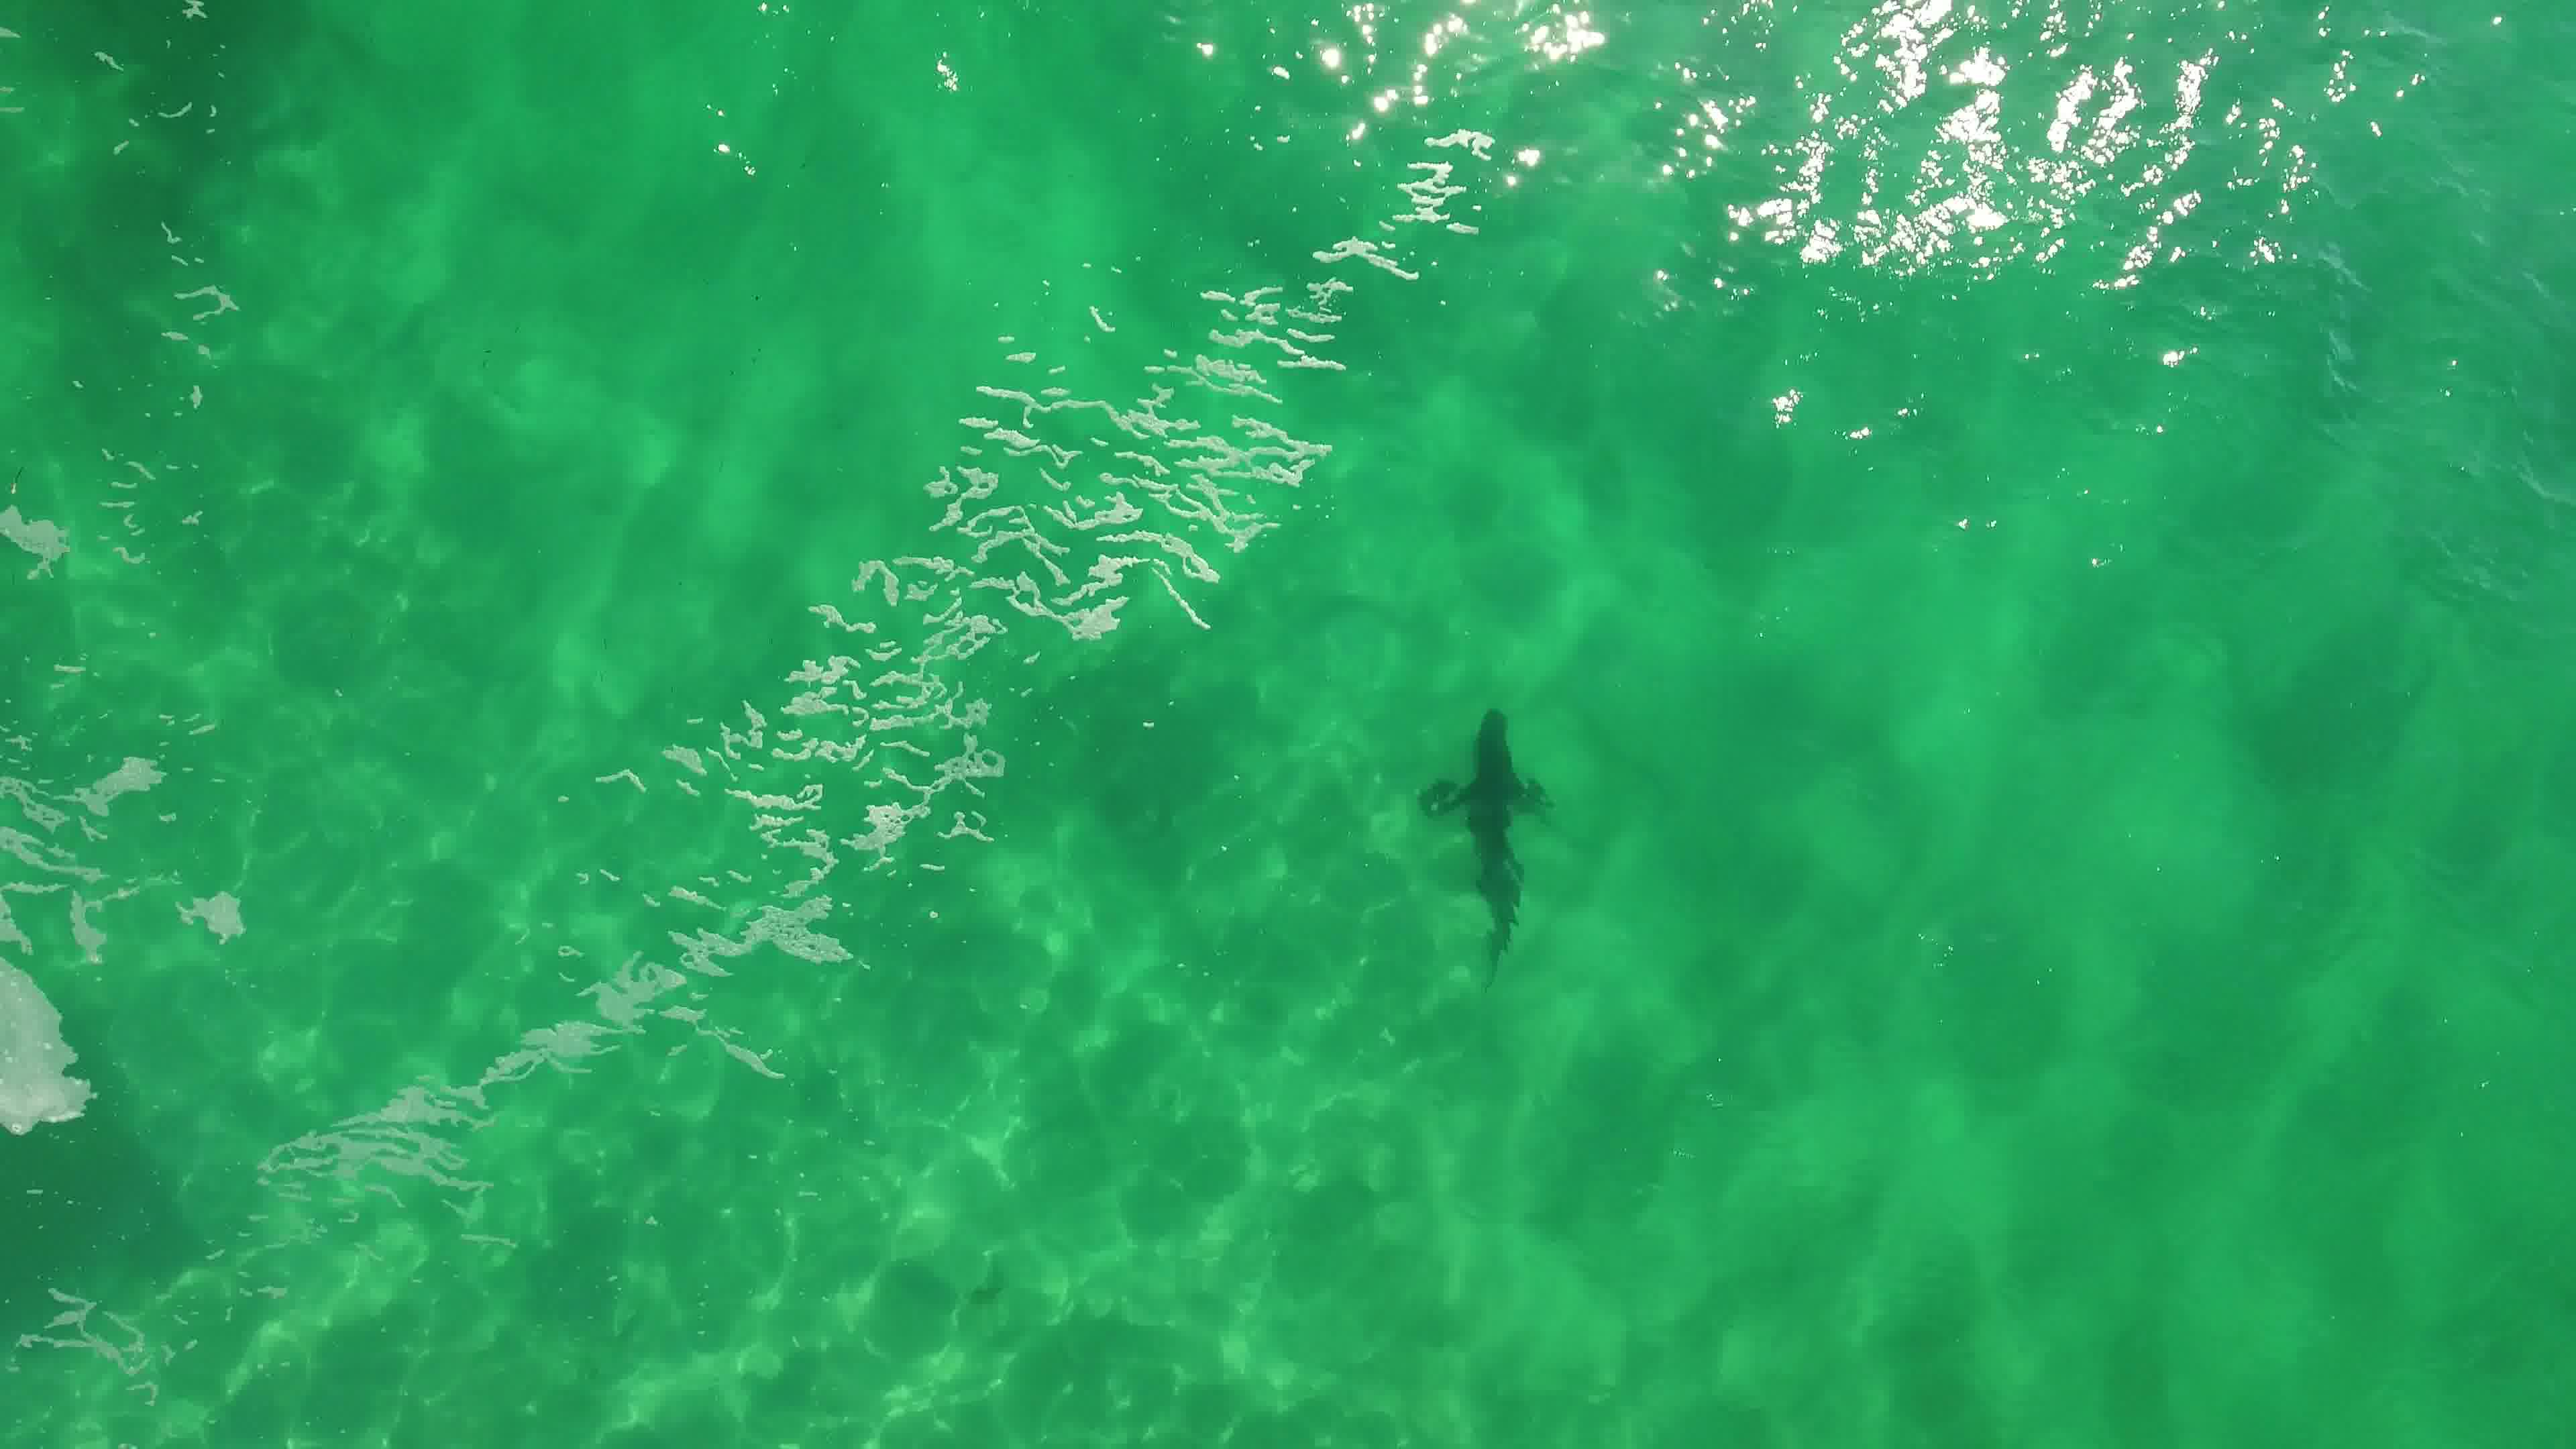shark: (1419, 695, 1560, 987)
